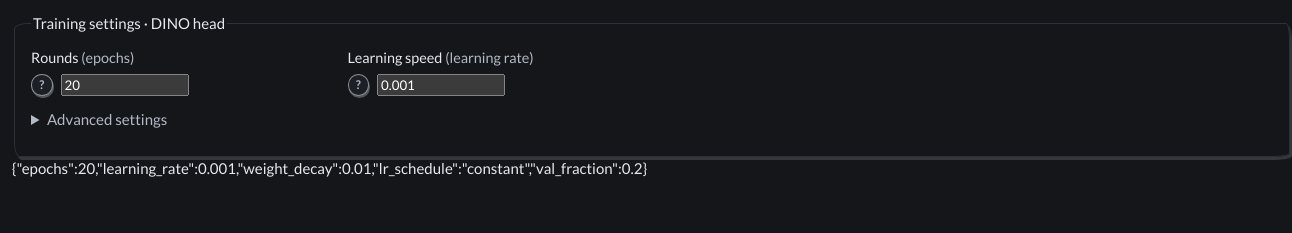
it: ParameterForm (doc 100) › marks a changed field, resets it, and resets all
The width and height of the screenshot is (1292, 233).
Replace the text in the field labelled "Rounds (epochs)" with "35" at [125, 85], box [61,74,189,96]
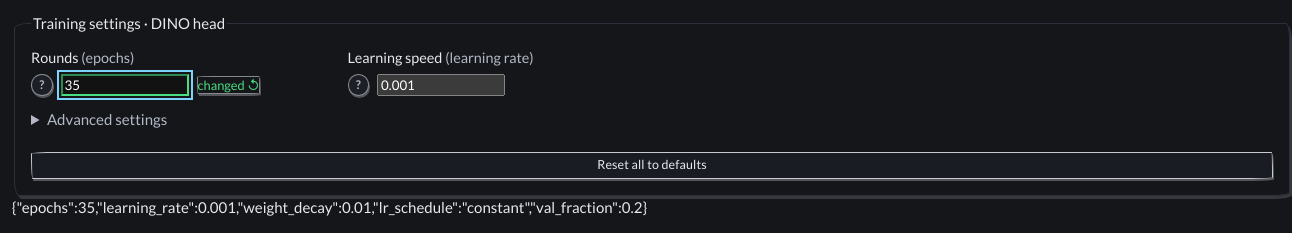
Click the button with aria-label "Reset Rounds to 20" at [228, 85], box [197,76,260,94]
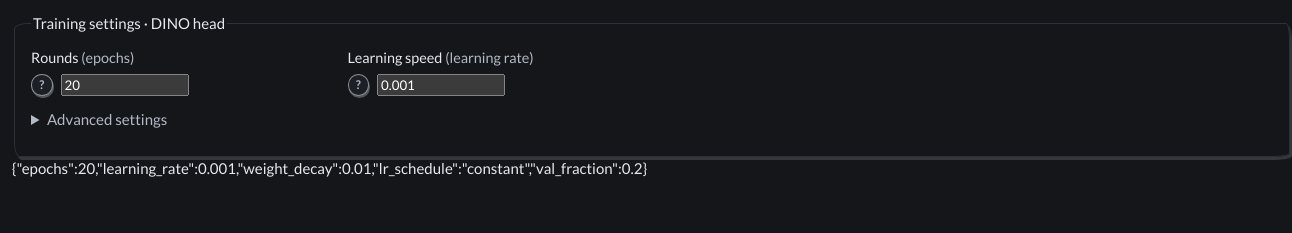
expect the field labelled "Rounds (epochs)" holds "20": met
Replace the text in the field labelled "Rounds (epochs)" with "3" at [125, 85], box [61,74,189,96]
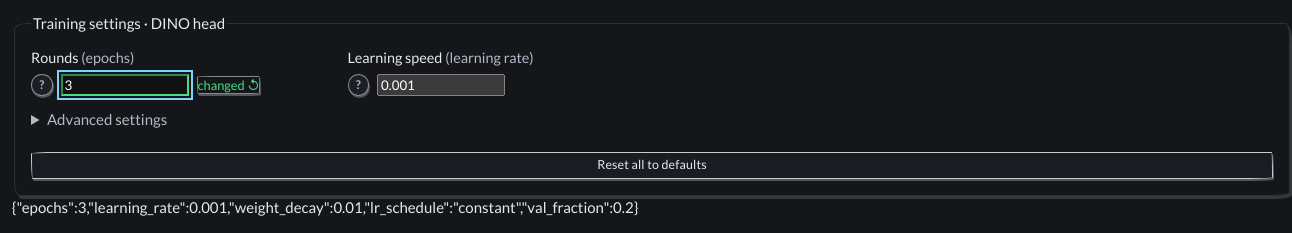
Click the button "Reset all to defaults" at [652, 165], box [31,152,1273,179]
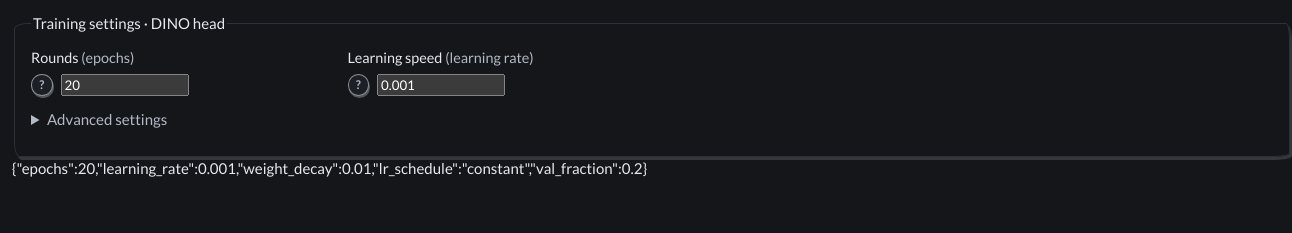
expect the field labelled "Rounds (epochs)" holds "20": met, box [61,74,189,96]
expect the button "Reset all to defaults" is gone: met
